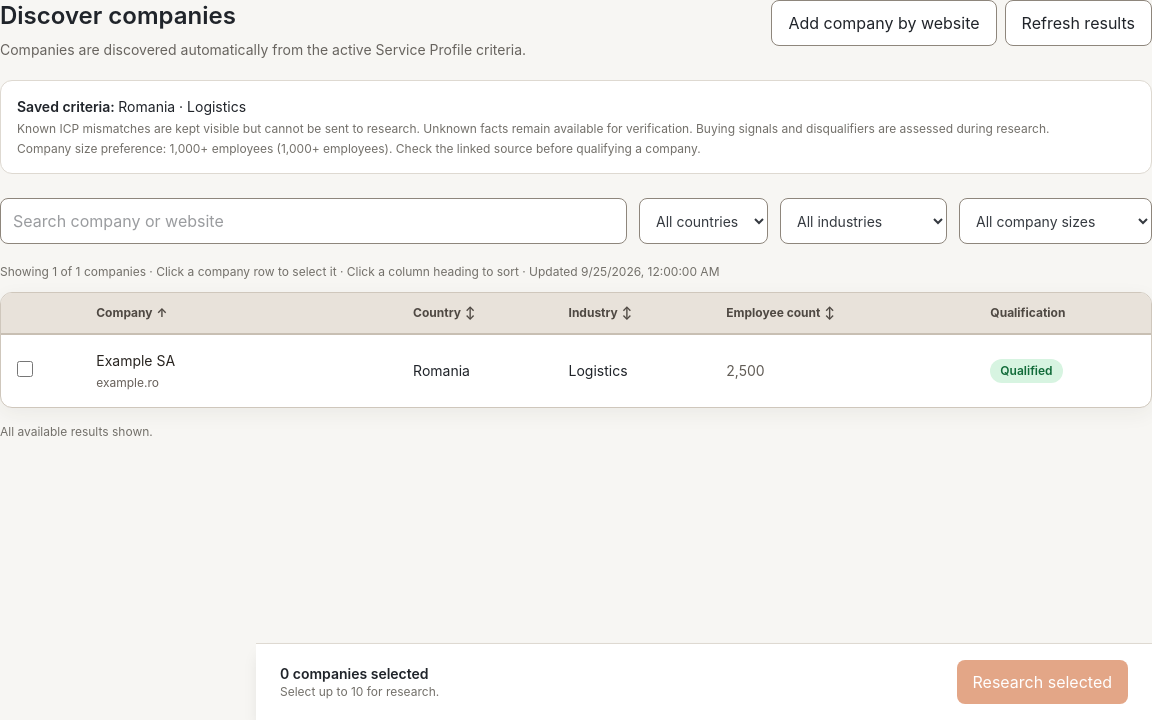
it: keeps failed research selected for retry
Click the checkbox named "Select Example SA" at coordinates (25, 368), box [17, 360, 33, 376]
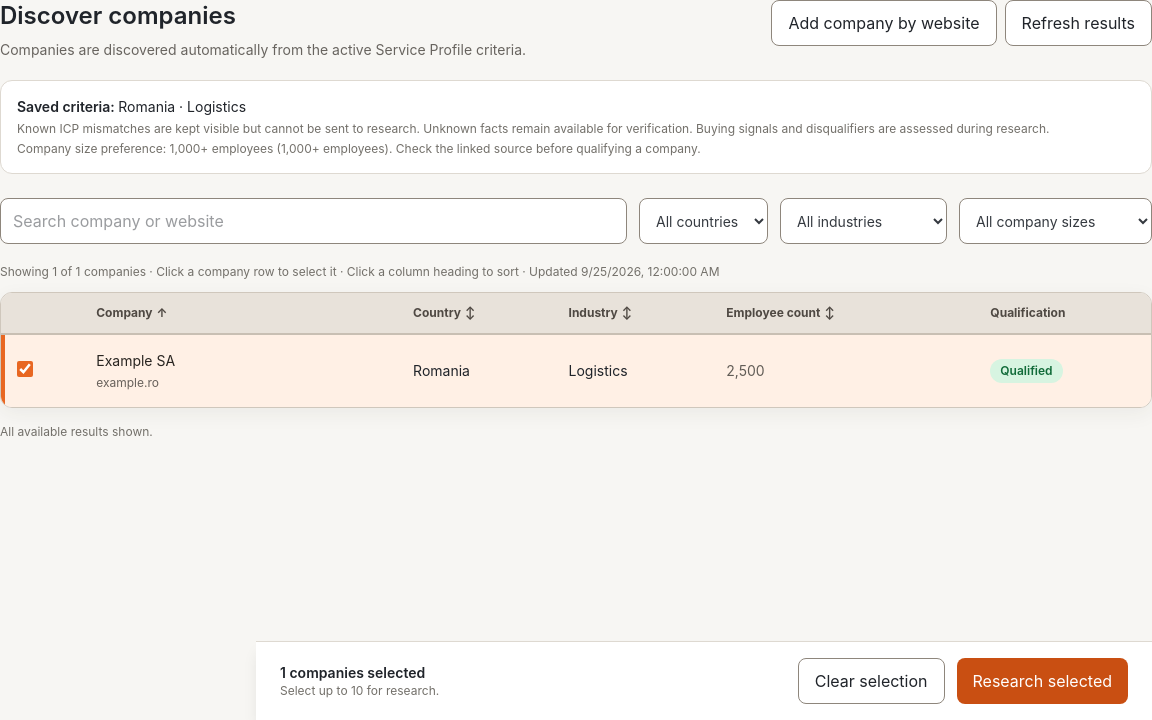
Click the button "Research selected" at coordinates (1042, 681), box [956, 658, 1128, 704]
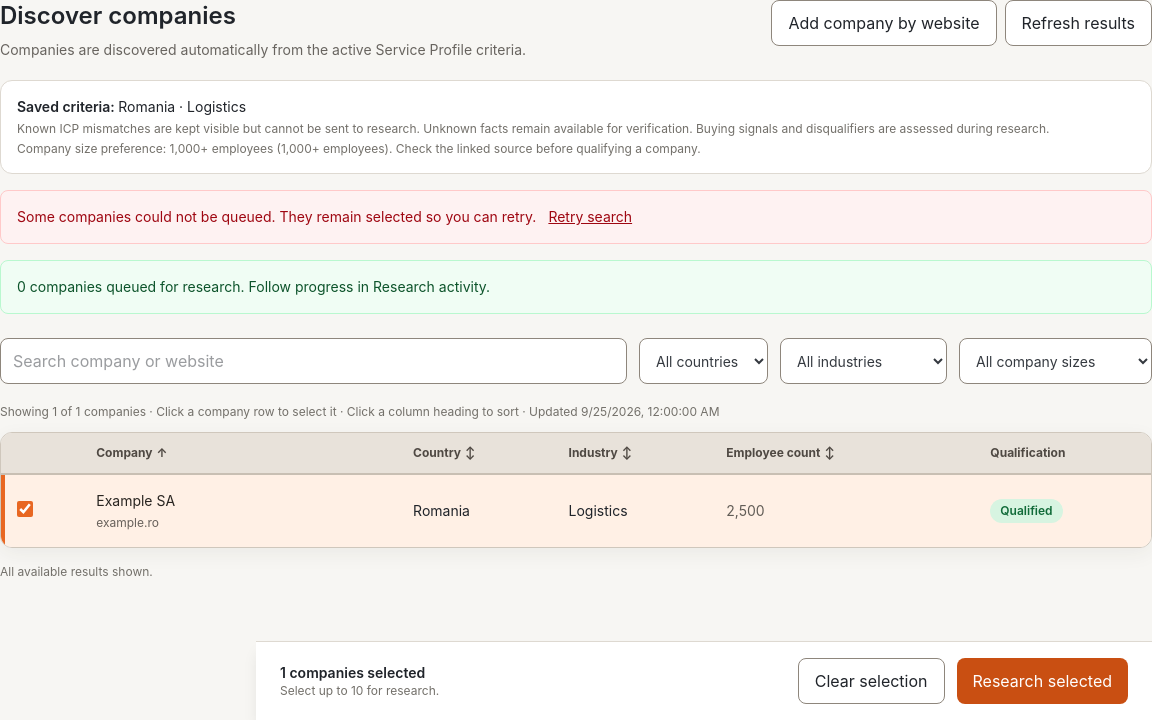
Expected: the checkbox named "Select Example SA" is checked, [17, 500, 33, 516]
Expected: the 1st message shows "remain selected", [17, 208, 536, 225]
